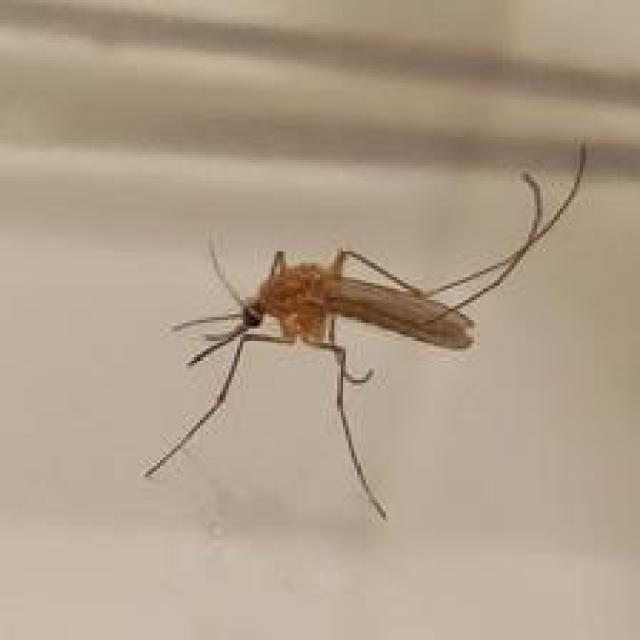Culex: (142, 138, 587, 522)
